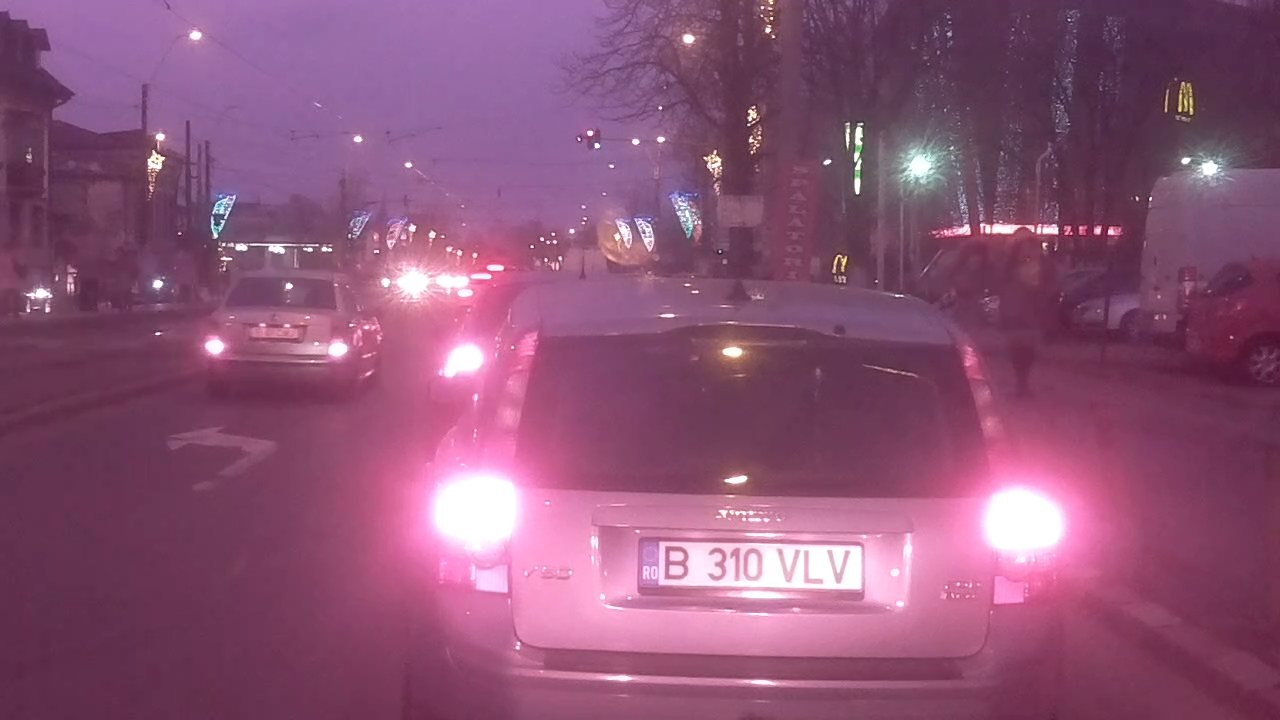license-plate: (632, 533, 869, 597)
